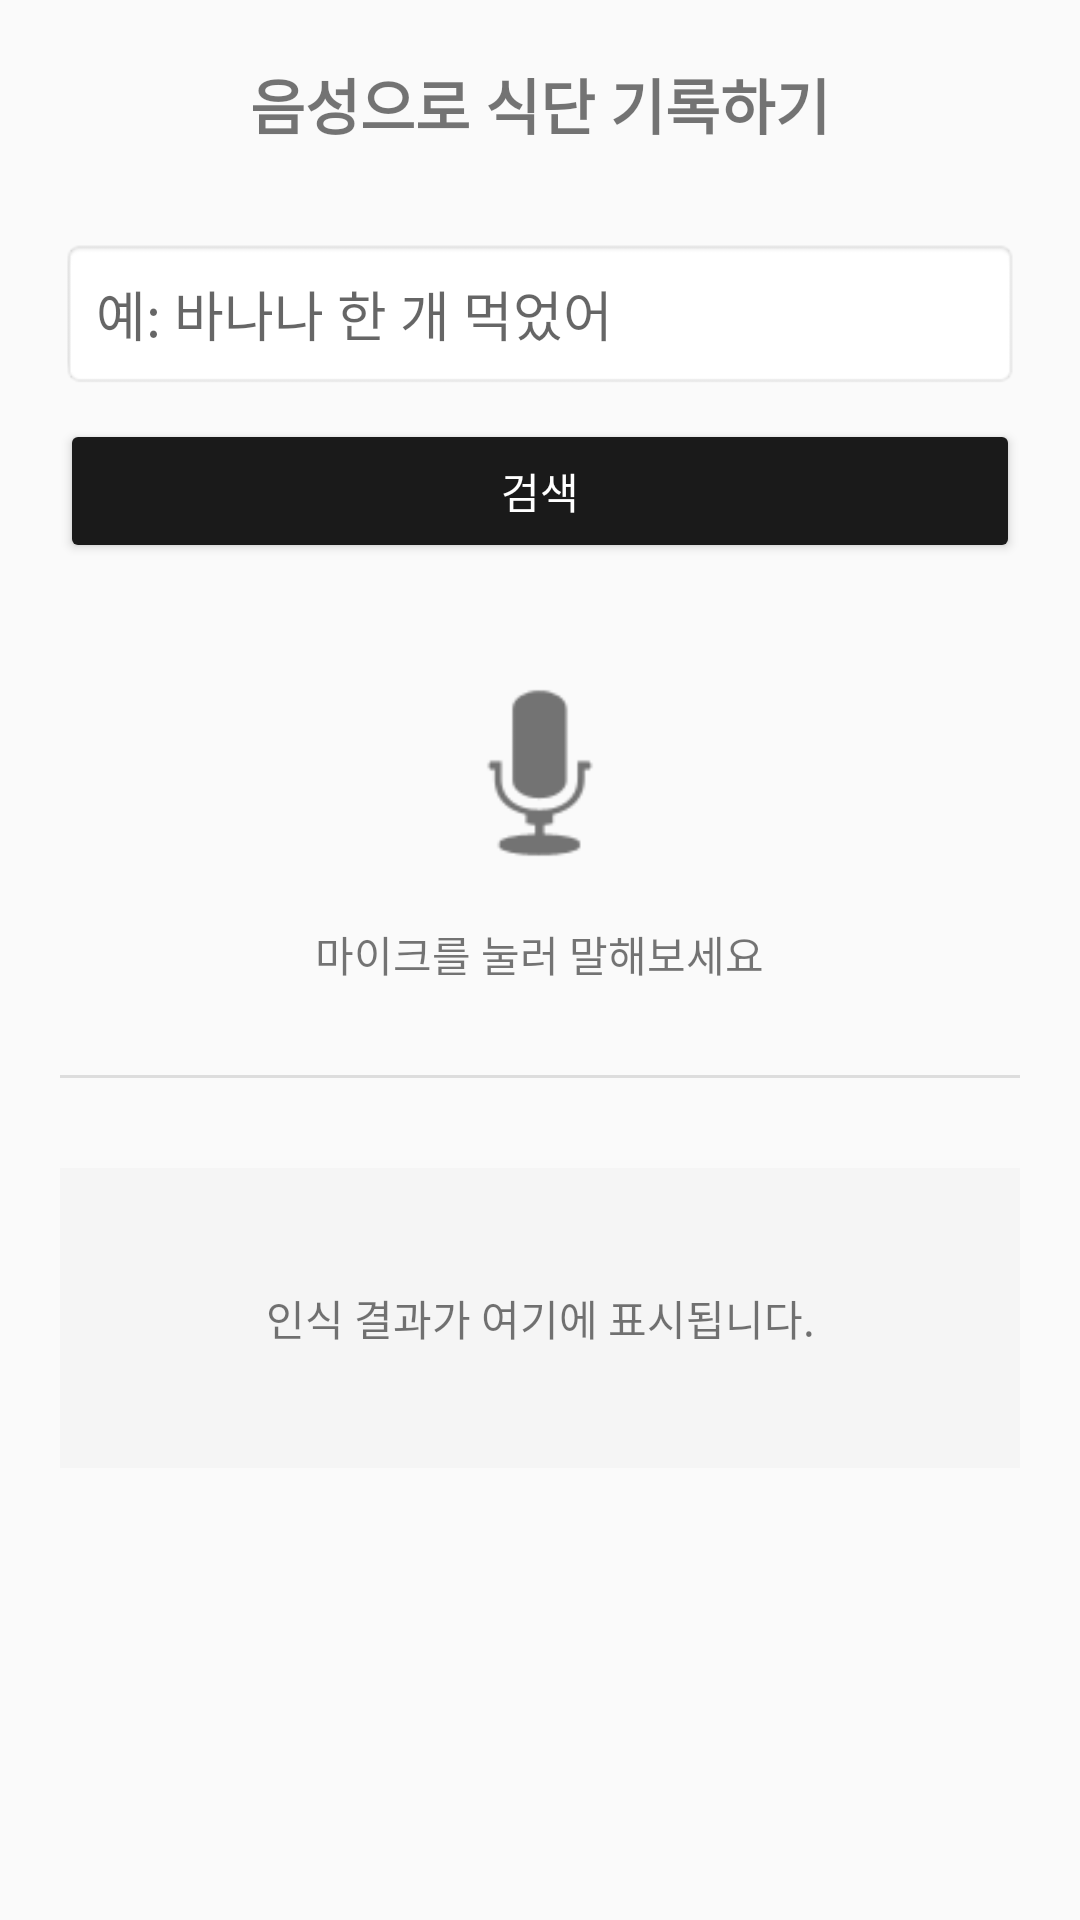

Locate icon controls on the screen. Image size 1080x1920, boxes as (x1, y1, x2, y2).
speak now: (487, 690, 592, 856)
